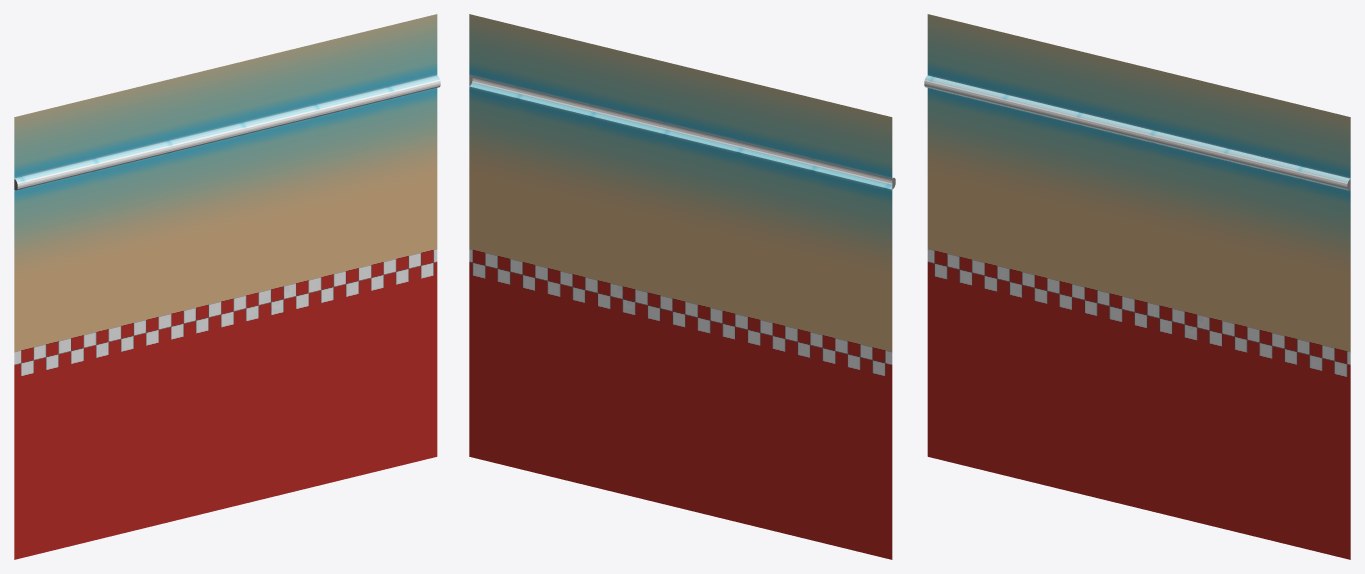
Rendered from wall_background.fbx.
The picture shows the model from 3 angles, left to right: view 1: azimuth 30°, elevation 25°; view 2: azimuth 150°, elevation 25°; view 3: azimuth 330°, elevation 25°; orthographic projection.
Parts seen in each view (by area): view 1: Wall_background; view 2: Wall_background; view 3: Wall_background.
Boxes of the visible parts, box(x1,y1,x2,y2) form: Wall_background: box(14, 14, 440, 559); Wall_background: box(469, 14, 895, 559); Wall_background: box(924, 14, 1350, 559).
Size of the model in its own units: 1540 by 1540 by 21.98.
